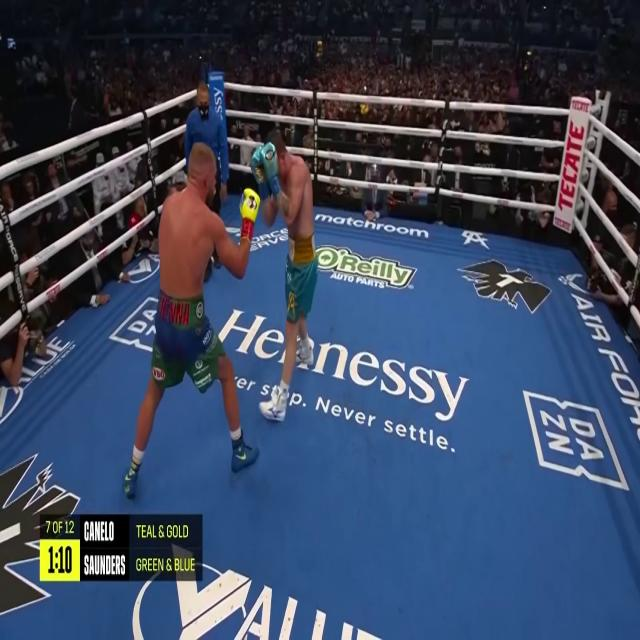boxer_1: (159, 144, 215, 297)
boxer_2: (265, 133, 313, 235)
gloves_1: (240, 188, 260, 242)
gloves_2: (251, 142, 281, 200)
